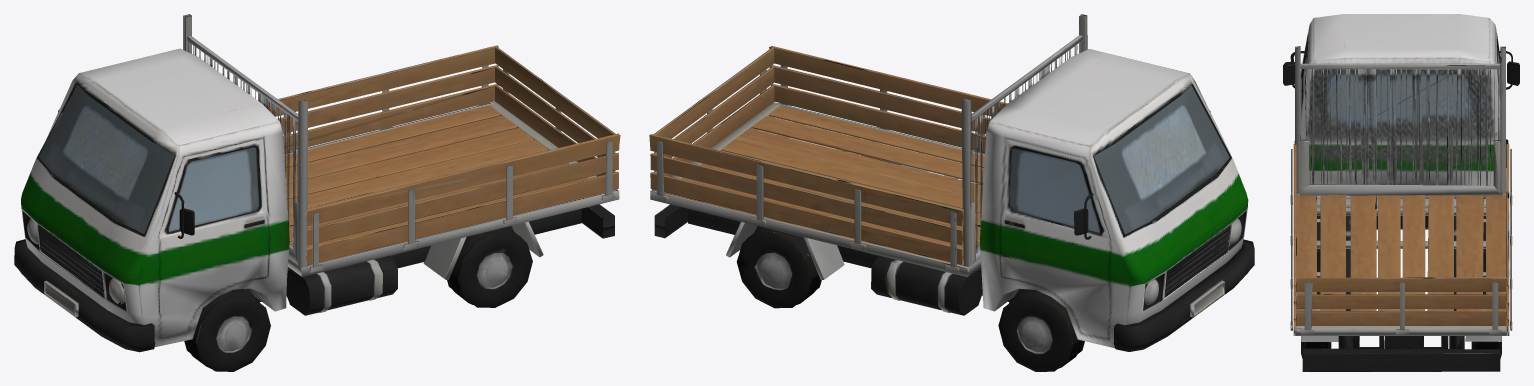
The model's file is caminhonete.glb.
The picture shows the model from 3 angles, left to right: view 1: azimuth 30°, elevation 25°; view 2: azimuth 150°, elevation 25°; view 3: azimuth 270°, elevation 25°; orthographic projection. The views are drawn at different scales.
Parts seen in each view (by area): view 1: geometry_0; view 2: geometry_0; view 3: geometry_0.
Boxes of the visible parts, x1=… form: geometry_0: x1=14, y1=14, x2=620, y2=371; geometry_0: x1=649, y1=14, x2=1254, y2=371; geometry_0: x1=1283, y1=14, x2=1519, y2=371.
Bounding box in the file's own units: 0.9556 × 0.4702 × 0.4419.
1 material, 1 textured.
